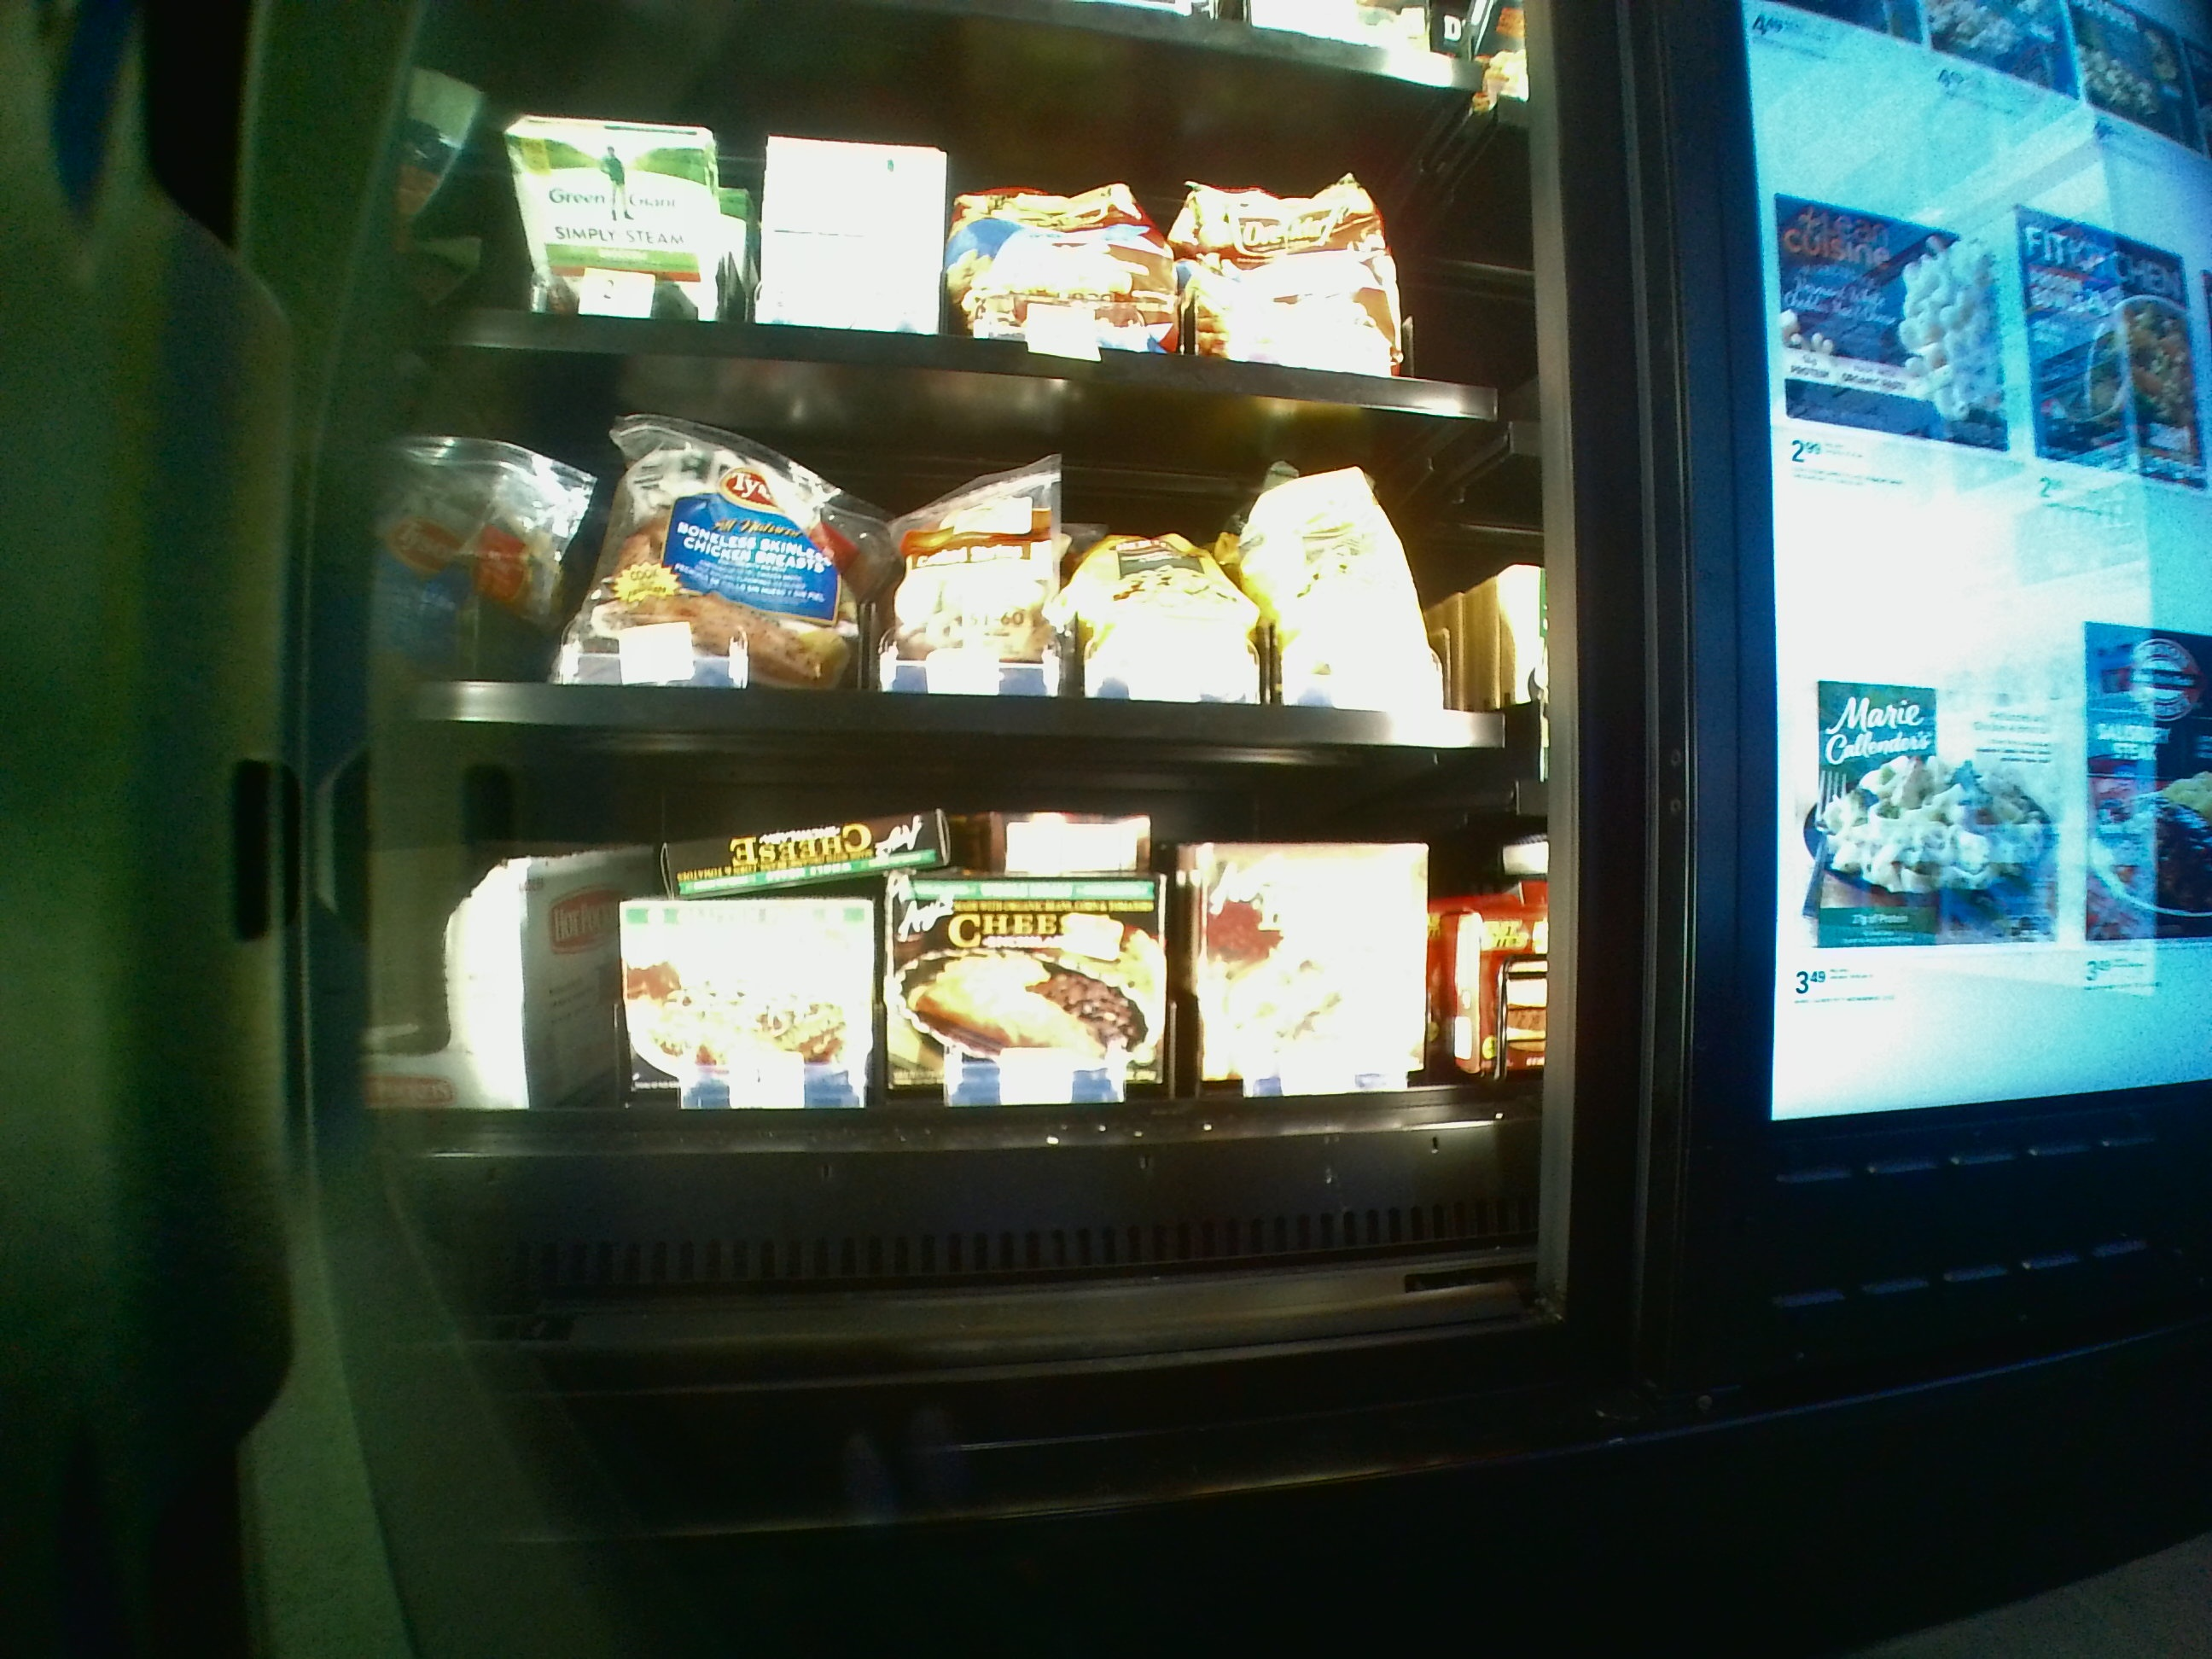shelf: (392, 763, 1541, 1305), (409, 352, 1529, 751)
